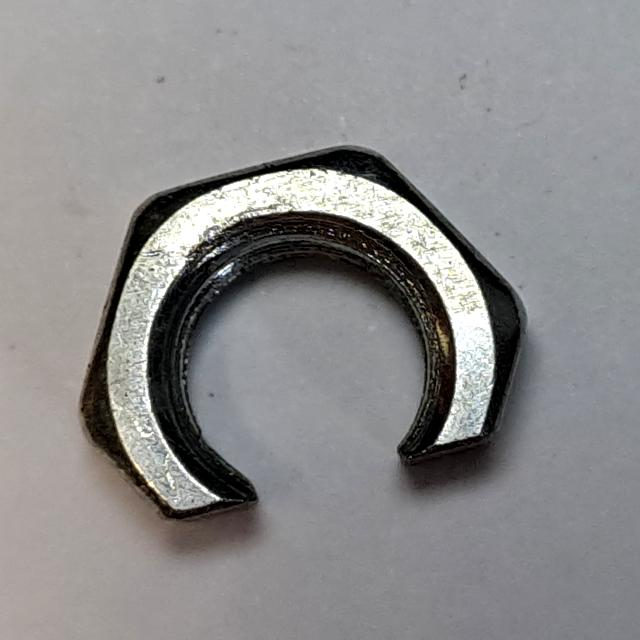Fracture: (59, 132, 547, 539)
